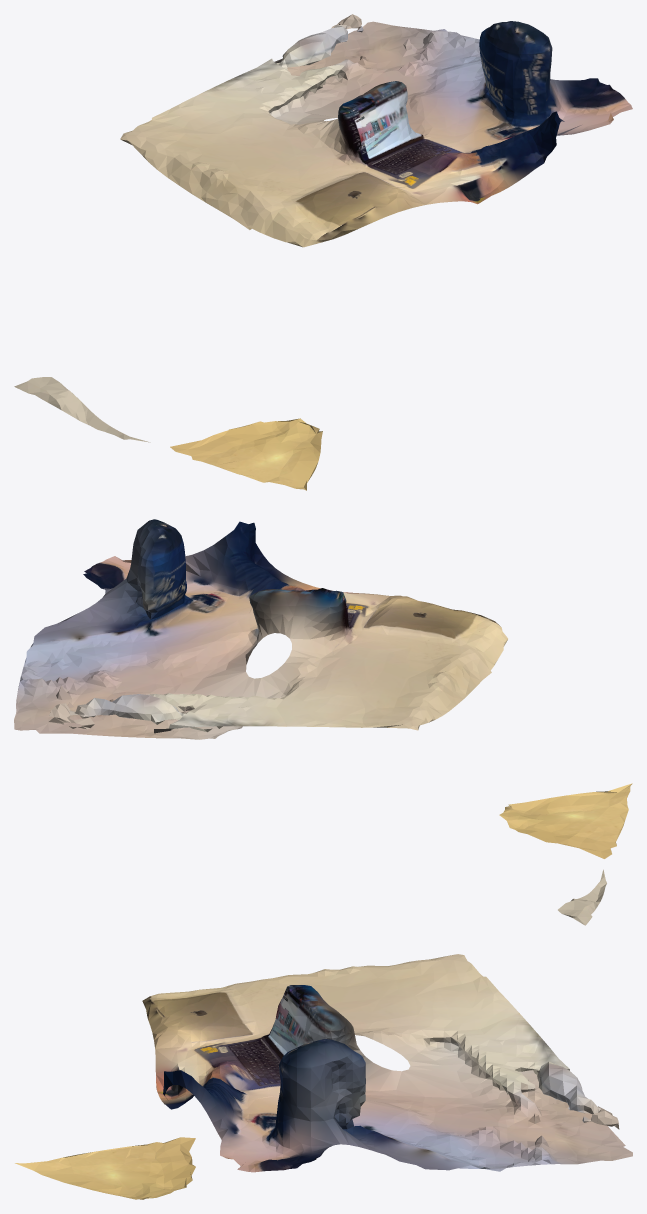
Rendered from 10_5_2026_desk_Virginia.glb.
3 renders of one model, top to bottom at view 1: azimuth 30°, elevation 25°; view 2: azimuth 150°, elevation 25°; view 3: azimuth 270°, elevation 25°, orthographic. The views are drawn at different scales.
Bounding box in the file's own units: 2.22 × 1.1 × 1.96.
1 material, 1 textured.
